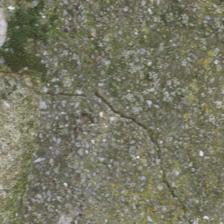Crack: (18, 41, 68, 148), (63, 33, 93, 155)
